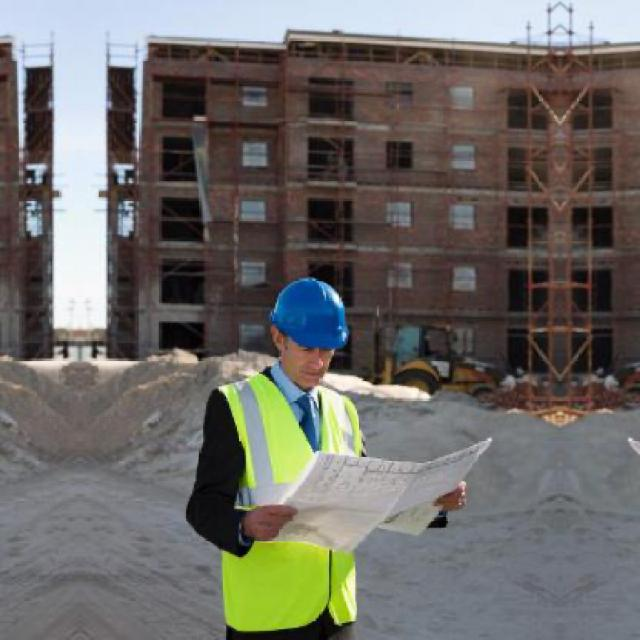helmet: (264, 263, 356, 391)
